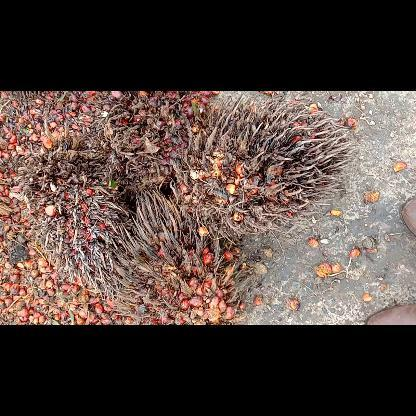Terlalu masak: (174, 91, 361, 247), (16, 124, 140, 298), (104, 186, 254, 324), (77, 91, 214, 201)
